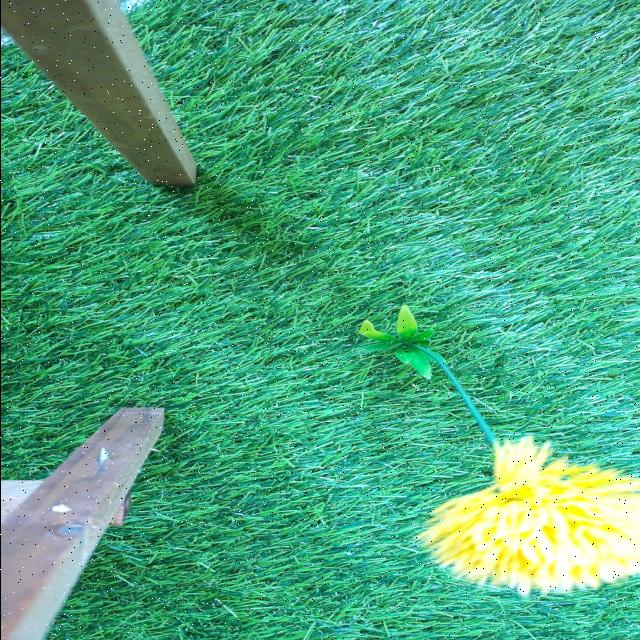base: (356, 311, 442, 379)
flower: (426, 449, 640, 588)
